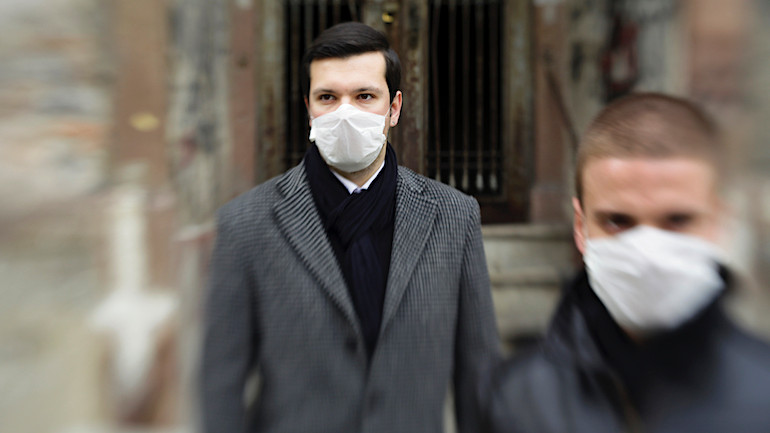surgical: (579, 226, 725, 335), (301, 105, 388, 174)
